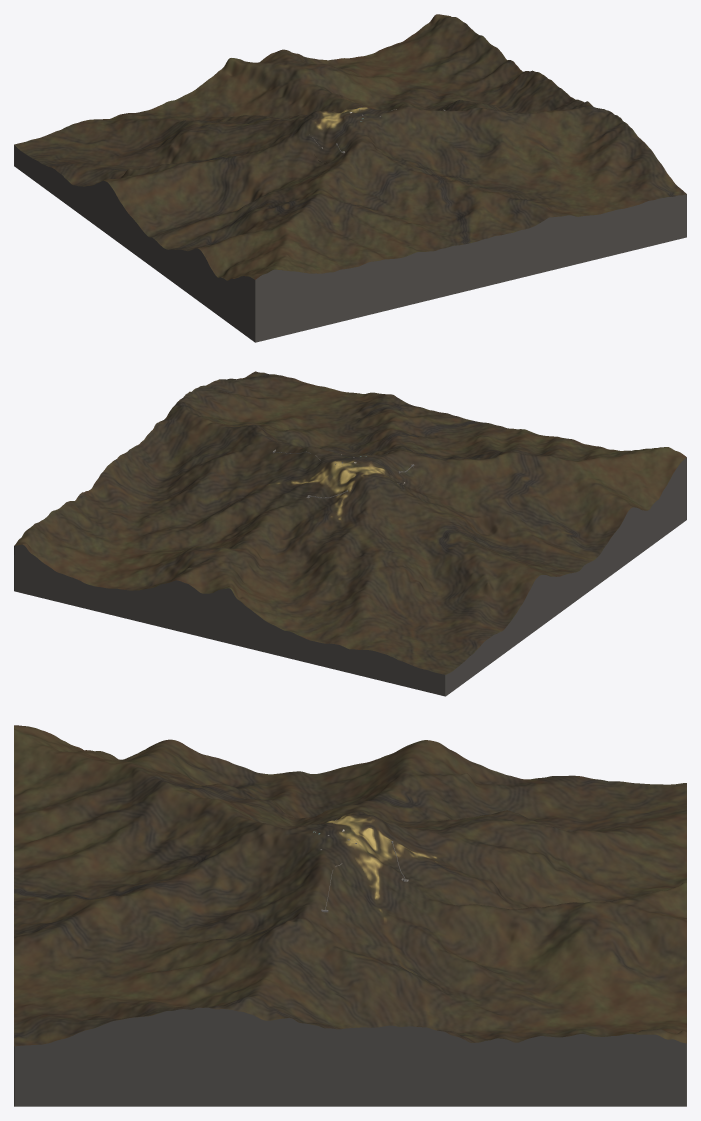
The model's file is sinhagad_fort_master_reconstruction (1).glb.
3 renders of one model, top to bottom at view 1: azimuth 30°, elevation 25°; view 2: azimuth 150°, elevation 25°; view 3: azimuth 270°, elevation 25°, orthographic. The views are drawn at different scales.
Parts seen in each view (by area): view 1: Sinhagad_Terrain, Sinhagad_Pedestal; view 2: Sinhagad_Terrain, Sinhagad_Pedestal; view 3: Sinhagad_Terrain, Sinhagad_Pedestal.
Part boxes in pixels (x1=…): Sinhagad_Terrain: x1=14, y1=14, x2=686, y2=280; Sinhagad_Pedestal: x1=14, y1=145, x2=686, y2=342; Sinhagad_Terrain: x1=14, y1=371, x2=686, y2=674; Sinhagad_Pedestal: x1=14, y1=457, x2=686, y2=696; Sinhagad_Terrain: x1=14, y1=725, x2=686, y2=1046; Sinhagad_Pedestal: x1=14, y1=1007, x2=686, y2=1106.
Size of the model in its own units: 100 by 20.4 by 96.81.
6 materials, 1 textured.
